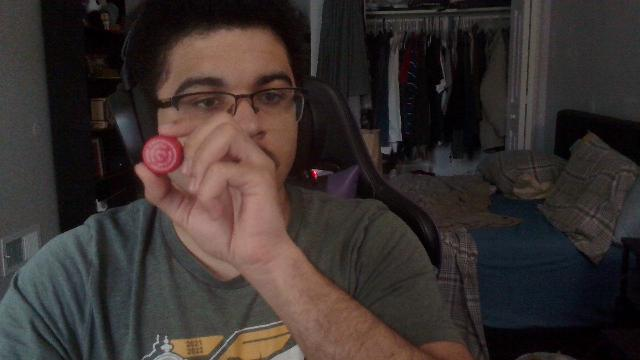cap: (142, 135, 184, 175)
